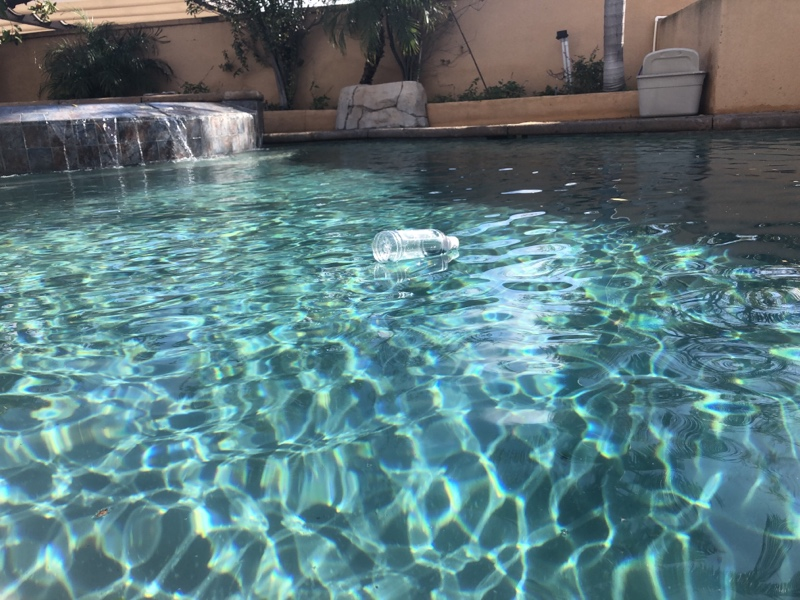Plastic Bottle: (368, 225, 461, 267)
